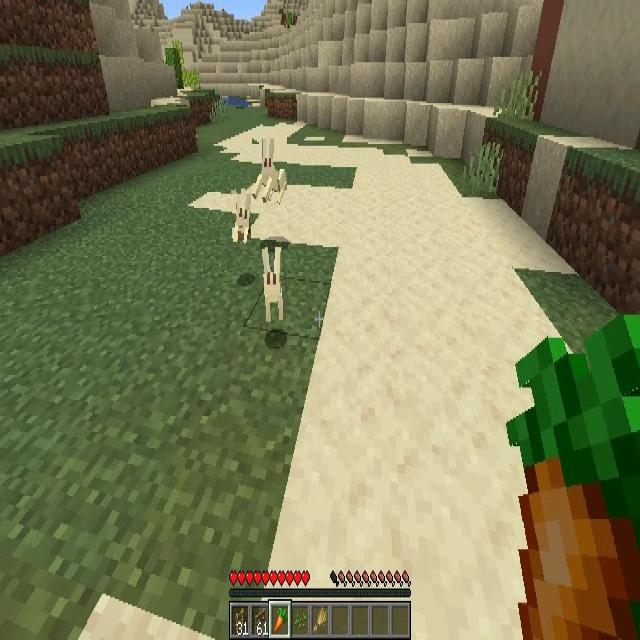rabbit: (252, 136, 287, 208), (262, 247, 284, 326), (232, 194, 251, 250)
